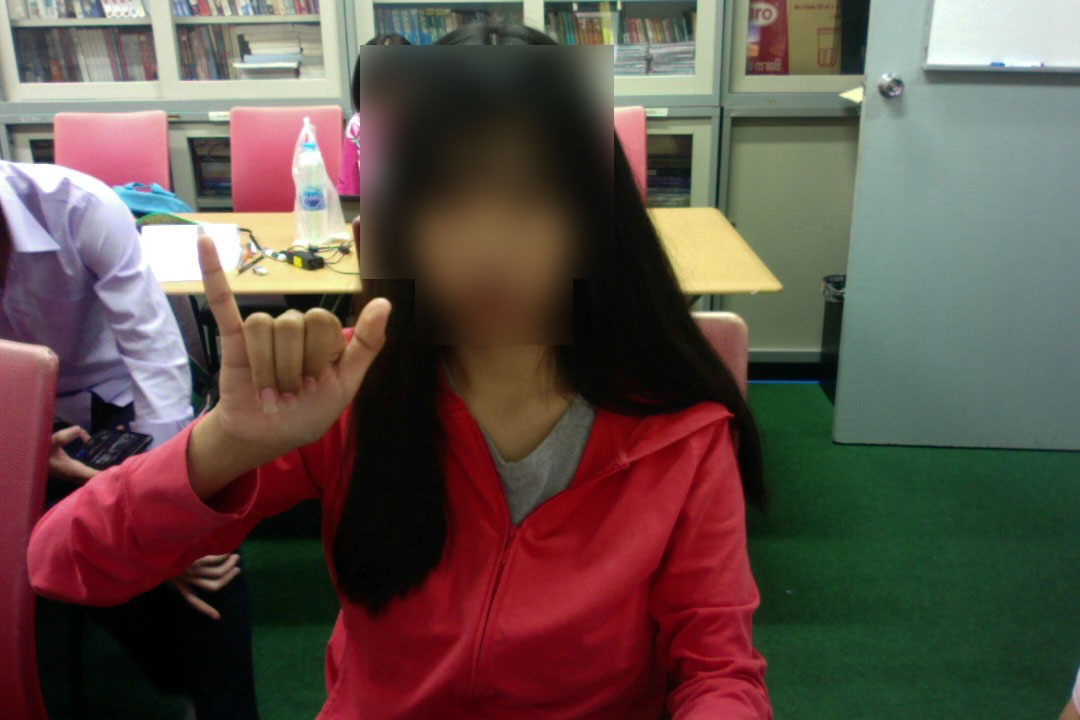yor: (178, 224, 401, 475)
